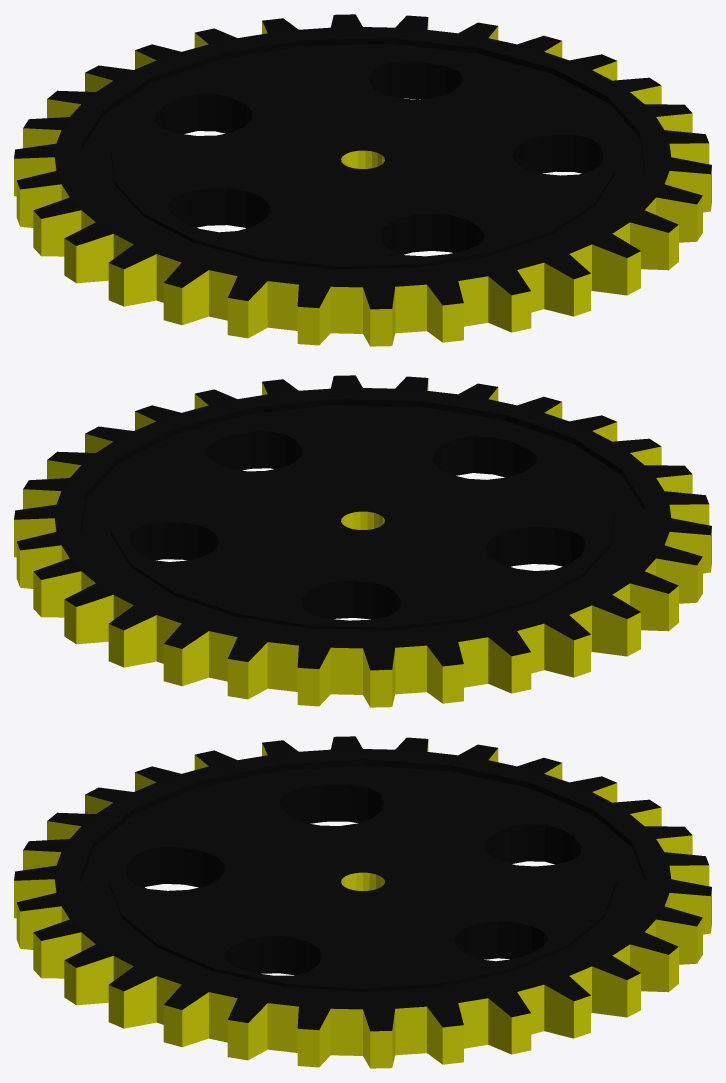
Rendered from D3GearV3.fbx.
3 views of the same model, one above another, from view 1: azimuth 30°, elevation 25°; view 2: azimuth 150°, elevation 25°; view 3: azimuth 270°, elevation 25° (orthographic).
Visible parts, largest first — view 1: D3GearV3; view 2: D3GearV3; view 3: D3GearV3.
Part boxes in pixels (x1,y1,x2,y2): D3GearV3: [14, 14, 711, 346]; D3GearV3: [14, 375, 711, 707]; D3GearV3: [14, 736, 711, 1068].
Size of the model in its own units: 6.79 by 0.5 by 6.79.
